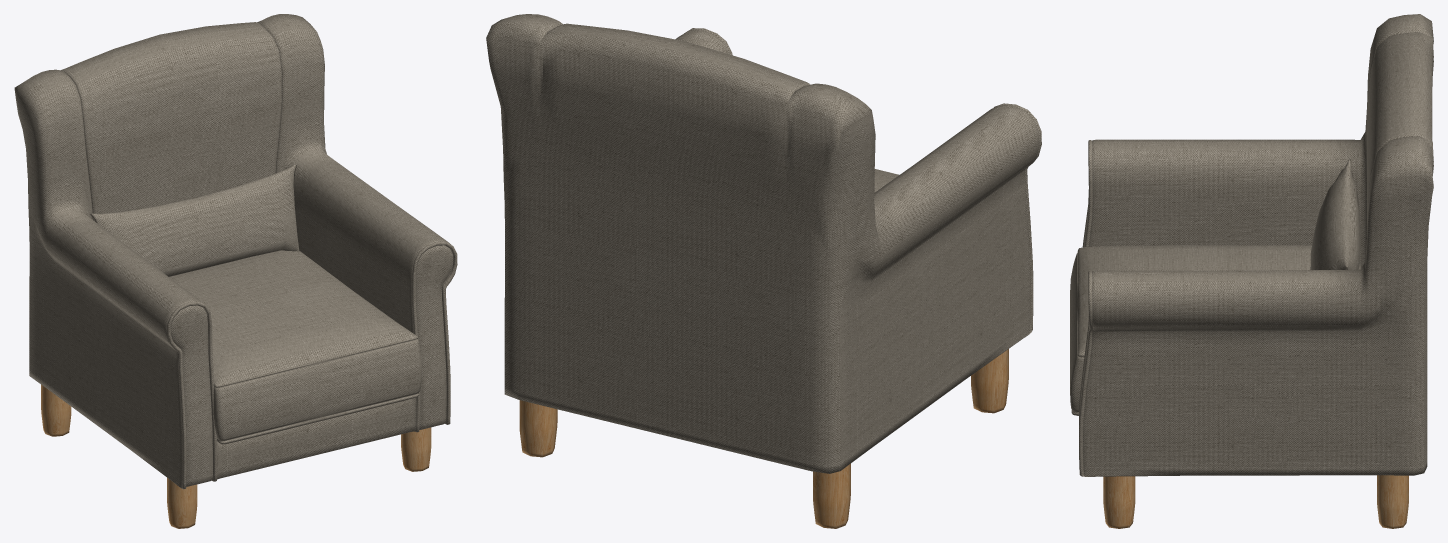
File: design11.obj
3 views of the same model, side by side, from view 1: azimuth 30°, elevation 25°; view 2: azimuth 150°, elevation 25°; view 3: azimuth 270°, elevation 25° (orthographic). The views are drawn at different scales.
Parts seen in each view (by area): view 1: Design012, Box046, Plane030, Box047, Box048; view 2: Design012, Box048, Box047; view 3: Design012, Box046, Plane030, Box048, Box047.
Boxes of the visible parts, <box> form: Design012: <box>14,14,457,489</box>; Box046: <box>169,250,422,444</box>; Plane030: <box>90,164,299,276</box>; Box047: <box>167,427,431,528</box>; Box048: <box>41,384,71,436</box>; Design012: <box>486,14,1041,473</box>; Box048: <box>519,400,850,528</box>; Box047: <box>971,349,1008,413</box>; Design012: <box>1079,14,1433,476</box>; Box046: <box>1070,245,1361,415</box>; Plane030: <box>1310,159,1360,269</box>; Box048: <box>1377,475,1408,528</box>; Box047: <box>1103,476,1135,528</box>.
Size of the model in its own units: 929 by 1098 by 928.
2 materials, 2 textured.
